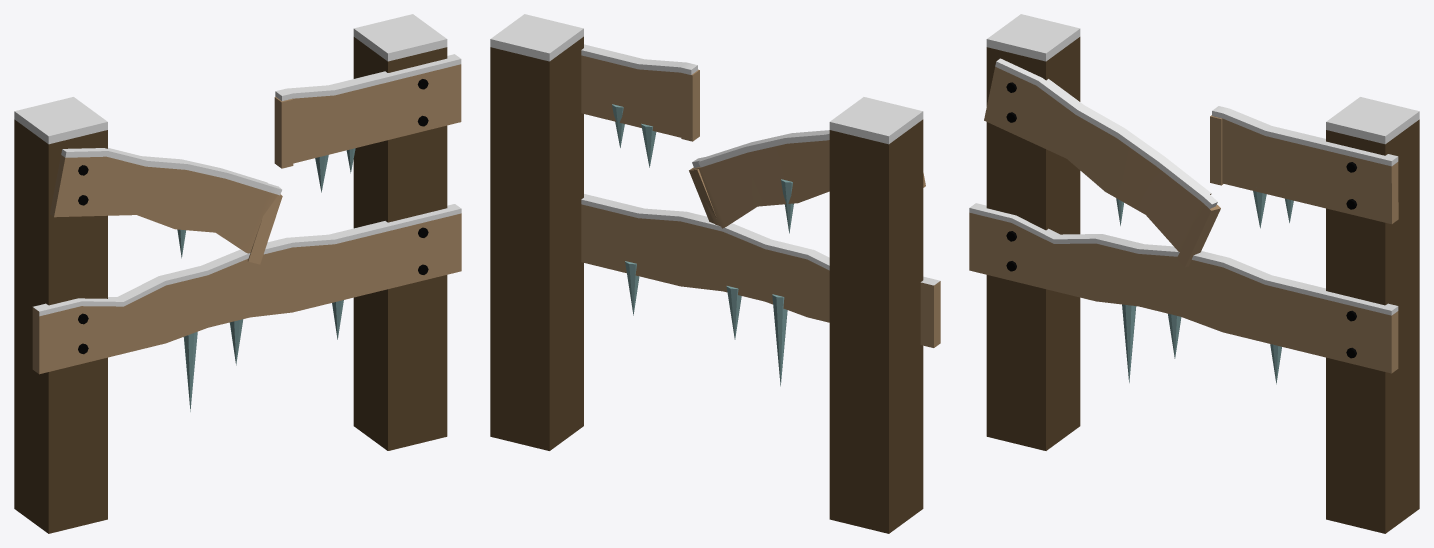
File: snow_broken_fence.fbx
The picture shows the model from 3 angles, left to right: view 1: azimuth 30°, elevation 25°; view 2: azimuth 150°, elevation 25°; view 3: azimuth 330°, elevation 25°; orthographic projection.
Parts seen in each view (by area): view 1: pCube24; view 2: pCube24; view 3: pCube24.
Boxes of the visible parts, left/top/right/bottom form: pCube24: left=14, top=14, right=461, bottom=533; pCube24: left=490, top=14, right=940, bottom=533; pCube24: left=969, top=14, right=1419, bottom=533.
Size of the model in its own units: 1.26 by 1.13 by 0.2106.
